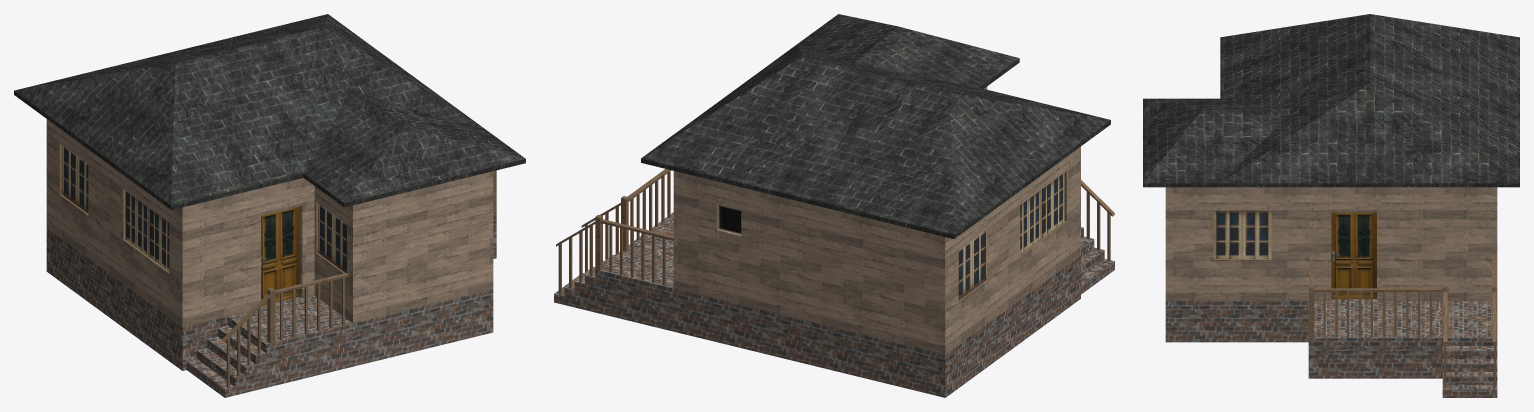
Rendered from house5_tex3.glb.
3 renders of one model, left to right at view 1: azimuth 30°, elevation 25°; view 2: azimuth 150°, elevation 25°; view 3: azimuth 270°, elevation 25°, orthographic. The views are drawn at different scales.
Visible parts, largest first — view 1: house5, house5_windows, house5_door1; view 2: house5, house5_windows; view 3: house5, house5_door2, house5_windows.
Boxes of the visible parts, x1,y1,x2,y2 form: house5: [14, 14, 525, 397]; house5_windows: [59, 143, 346, 273]; house5_door1: [261, 206, 299, 305]; house5: [554, 14, 1114, 397]; house5_windows: [716, 171, 1066, 301]; house5: [1143, 14, 1519, 397]; house5_door2: [1331, 212, 1376, 299]; house5_windows: [1213, 210, 1272, 259].
Bounding box in the file's own units: 10 × 5.6 × 8.3.
1 material, 1 textured.
